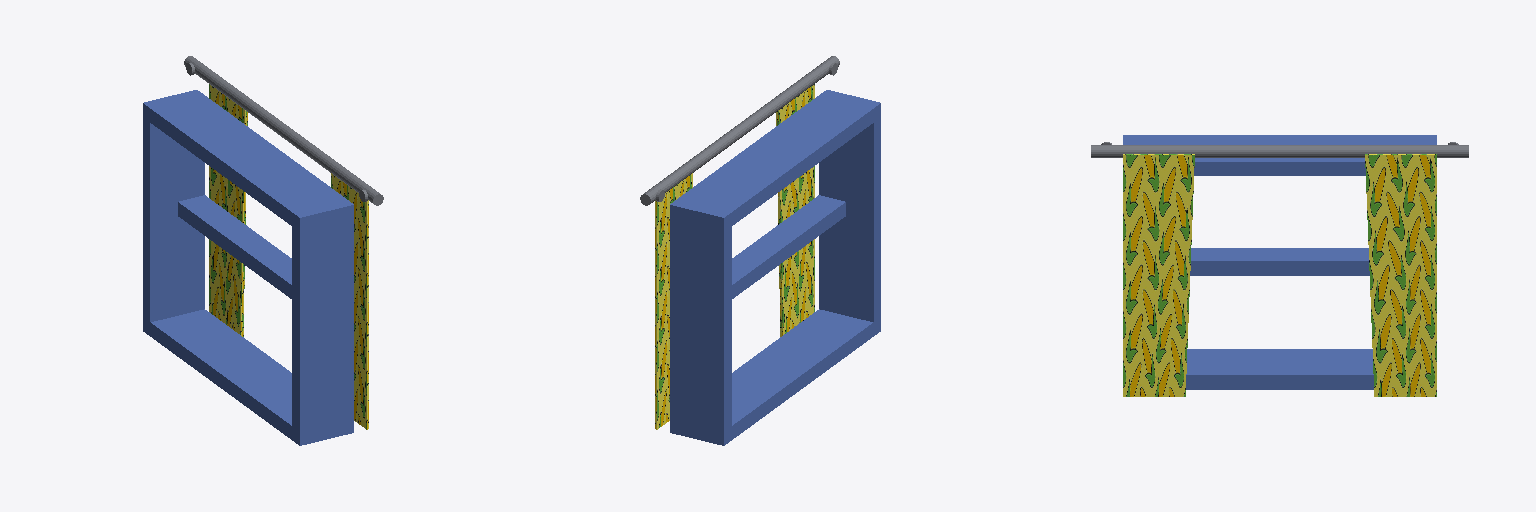
3 renders of one model, left to right at view 1: azimuth 30°, elevation 25°; view 2: azimuth 150°, elevation 25°; view 3: azimuth 270°, elevation 25°, orthographic.
Parts seen in each view (by area): view 1: Box001, Box004, Box002, Box003, Cylinder001; view 2: Box001, Box003, Box002, Box004, Cylinder001; view 3: Box003, Box004, Box001, Box002, Cylinder001.
Part boxes in pixels (x1,y1,x2,y2): Box001: (143,90,353,445); Box004: (209,84,247,336); Box002: (178,195,291,298); Box003: (331,173,368,429); Cylinder001: (184,56,383,205); Box001: (670,90,880,445); Box003: (776,84,814,336); Box002: (732,195,845,298); Box004: (655,173,692,429); Cylinder001: (640,56,839,205); Box003: (1123,154,1194,396); Box004: (1365,154,1436,396); Box001: (1123,135,1436,389); Box002: (1190,248,1369,275); Cylinder001: (1091,145,1468,157).
Bounding box in the file's own units: 2.55 × 8.7 × 12.
3 materials, 3 textured.